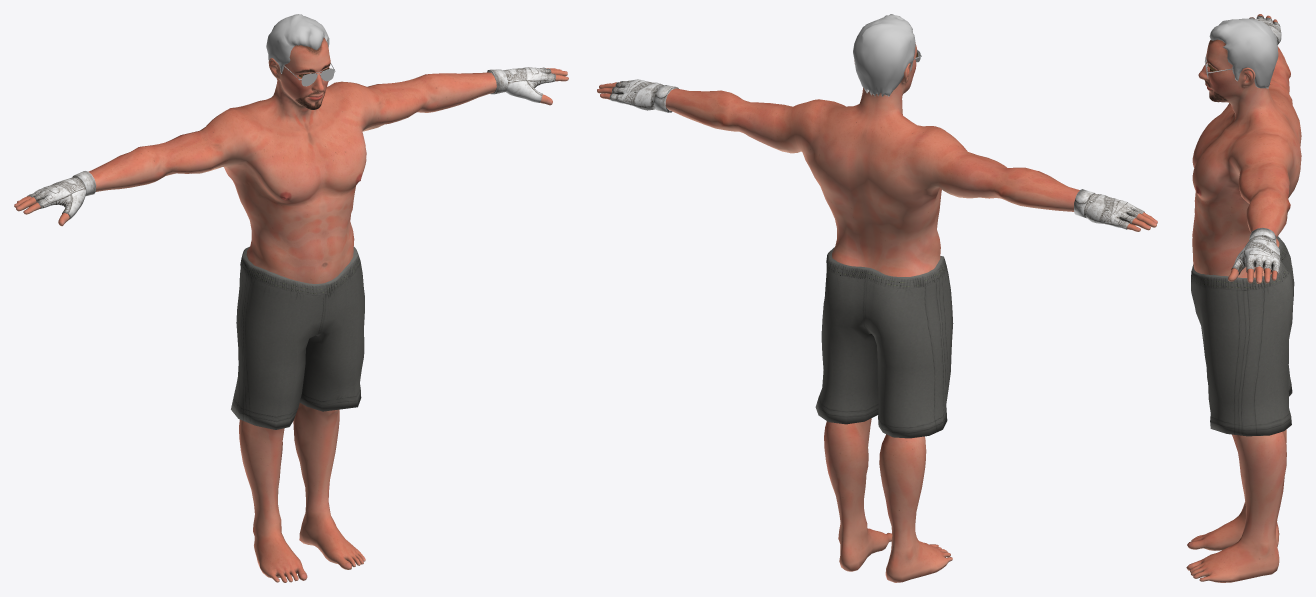
The model's file is topgun.obj.
3 views of the same model, side by side, from view 1: azimuth 30°, elevation 25°; view 2: azimuth 150°, elevation 25°; view 3: azimuth 270°, elevation 25° (orthographic).
Visible parts, largest first — view 1: Body, Bottoms, Gloves, Hair; view 2: Body, Bottoms, Hair, Gloves; view 3: Body, Bottoms, Hair, Gloves.
Boxes of the visible parts, <box> form: Body: <box>14,37,568,582</box>; Bottoms: <box>231,246,364,429</box>; Gloves: <box>27,67,555,219</box>; Hair: <box>266,14,329,78</box>; Body: <box>597,42,1157,582</box>; Bottoms: <box>815,247,953,438</box>; Hair: <box>853,14,915,96</box>; Gloves: <box>609,79,1144,229</box>; Body: <box>1186,14,1301,582</box>; Bottoms: <box>1191,236,1294,436</box>; Hair: <box>1209,18,1278,88</box>; Gloves: <box>1231,15,1281,274</box>.
Bounding box in the file's own units: 194 × 181 × 34.92.
